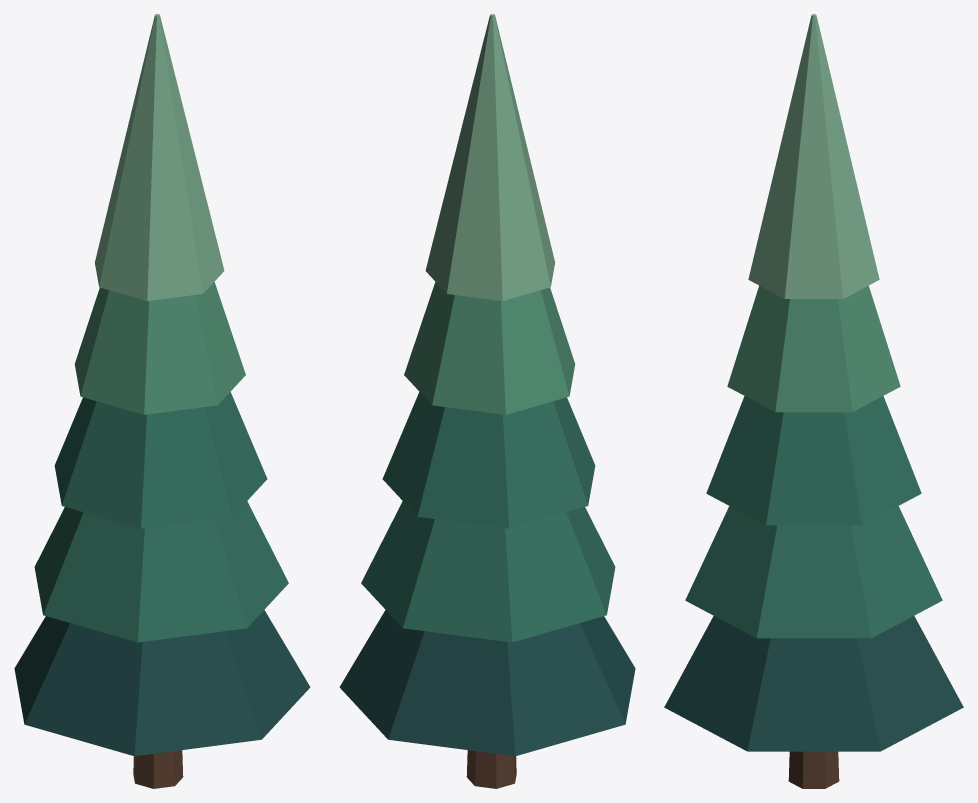
Rendered from EG_Arbol_Cipres.fbx.
3 views of the same model, side by side, from view 1: azimuth 30°, elevation 25°; view 2: azimuth 150°, elevation 25°; view 3: azimuth 270°, elevation 25° (orthographic).
Visible parts, largest first — view 1: EG_Arbol_Cipres; view 2: EG_Arbol_Cipres; view 3: EG_Arbol_Cipres.
Boxes of the visible parts, left/top/right/bottom form: EG_Arbol_Cipres: left=14, top=14, right=310, bottom=788; EG_Arbol_Cipres: left=339, top=14, right=635, bottom=788; EG_Arbol_Cipres: left=664, top=14, right=963, bottom=788.
Bounding box in the file's own units: 1.69 × 4.88 × 1.74.
1 material, 1 textured.
